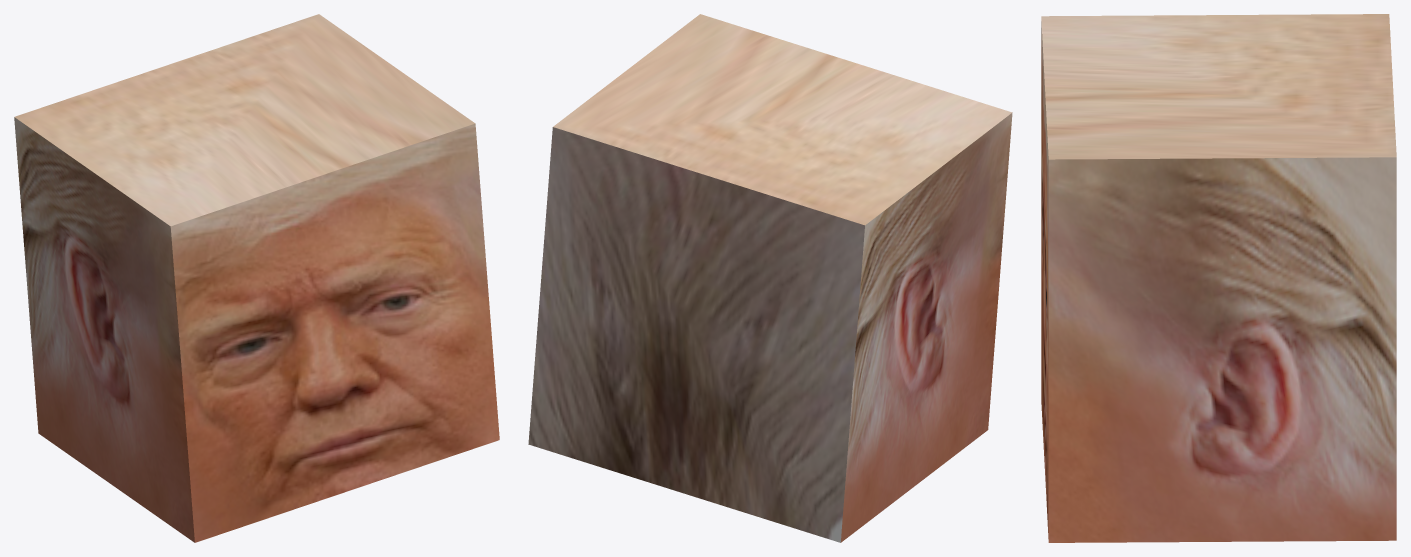
The model's file is square_trump.glb.
3 renders of one model, left to right at view 1: azimuth 30°, elevation 25°; view 2: azimuth 150°, elevation 25°; view 3: azimuth 270°, elevation 25°, orthographic. The views are drawn at different scales.
Parts seen in each view (by area): view 1: pCube1; view 2: pCube1; view 3: pCube1.
Boxes of the visible parts, <box> form: pCube1: <box>14,14,499,542</box>; pCube1: <box>528,14,1012,542</box>; pCube1: <box>1041,14,1396,542</box>.
Bounding box in the file's own units: 0.03 × 0.0296 × 0.0239.
Materials: 1 (1 with a texture image).
